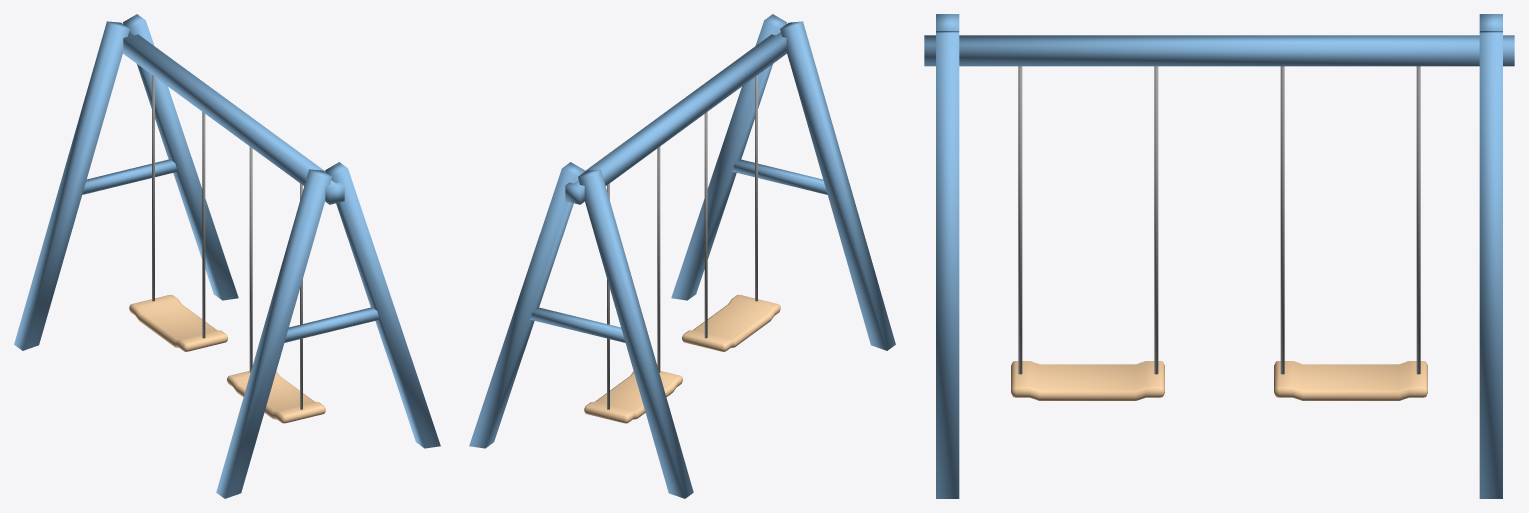
Rendered from swing.glb.
3 views of the same model, side by side, from view 1: azimuth 30°, elevation 25°; view 2: azimuth 150°, elevation 25°; view 3: azimuth 270°, elevation 25° (orthographic). The views are drawn at different scales.
Parts seen in each view (by area): view 1: Swingbody, Swingsheet2, Swingsheet1; view 2: Swingbody, Swingsheet1, Swingsheet2; view 3: Swingbody, Swingsheet1, Swingsheet2.
Boxes of the visible parts, x1,y1,x2,y2 form: Swingbody: (14,14,440,498); Swingsheet2: (129,75,227,351); Swingsheet1: (227,146,325,423); Swingbody: (469,14,895,498); Swingsheet1: (682,75,780,351); Swingsheet2: (584,146,682,423); Swingbody: (924,14,1514,498); Swingsheet1: (1011,66,1164,400); Swingsheet2: (1274,66,1427,400).
Bounding box in the file's own units: 7.09 × 9.43 × 12.47.
